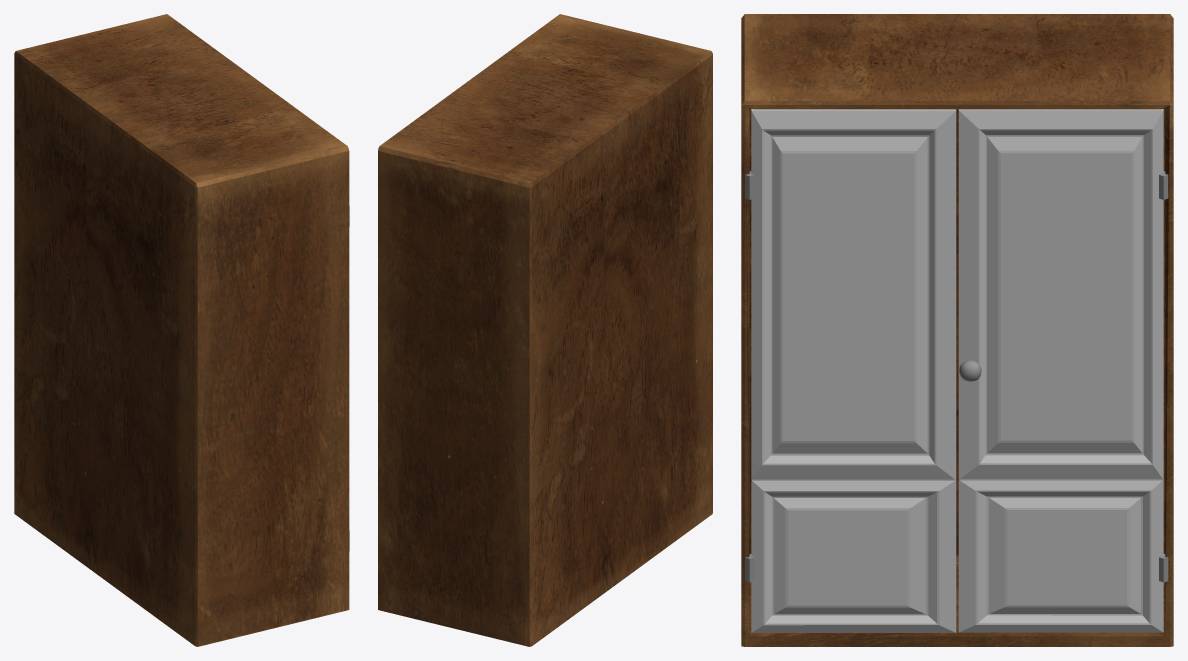
The model's file is shkaf1.fbx.
3 renders of one model, left to right at view 1: azimuth 30°, elevation 25°; view 2: azimuth 150°, elevation 25°; view 3: azimuth 270°, elevation 25°, orthographic. The views are drawn at different scales.
Parts seen in each view (by area): view 1: Cube; view 2: Cube; view 3: Cube.001, Cube.002, Cube.
Boxes of the visible parts, x1,y1,x2,y2 form: Cube: [14, 14, 349, 646]; Cube: [378, 14, 712, 646]; Cube.001: [751, 109, 956, 632]; Cube.002: [958, 109, 1163, 632]; Cube: [741, 14, 1173, 646].
Bounding box in the file's own units: 101 × 268 × 192.
